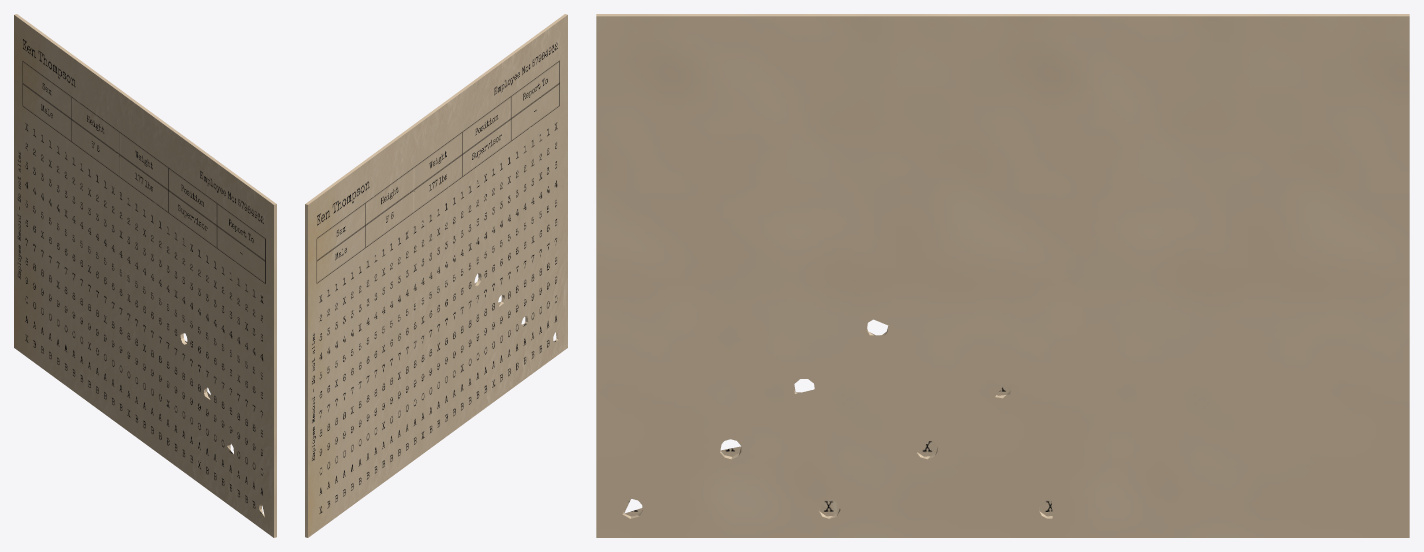
The model's file is employeeCard04Aadi.fbx.
3 renders of one model, left to right at view 1: azimuth 30°, elevation 25°; view 2: azimuth 150°, elevation 25°; view 3: azimuth 270°, elevation 25°, orthographic. The views are drawn at different scales.
Visible parts, largest first — view 1: Employee 04 Card Puzzle Punched; view 2: Employee 04 Card Puzzle Punched; view 3: Employee 04 Card Puzzle Punched.
Part boxes in pixels (x1,y1,x2,y2): Employee 04 Card Puzzle Punched: [14, 14, 276, 537]; Employee 04 Card Puzzle Punched: [305, 14, 567, 537]; Employee 04 Card Puzzle Punched: [596, 14, 1409, 537].
Bounding box in the file's own units: 0.9779 × 100 × 141.
1 material, 1 textured.
